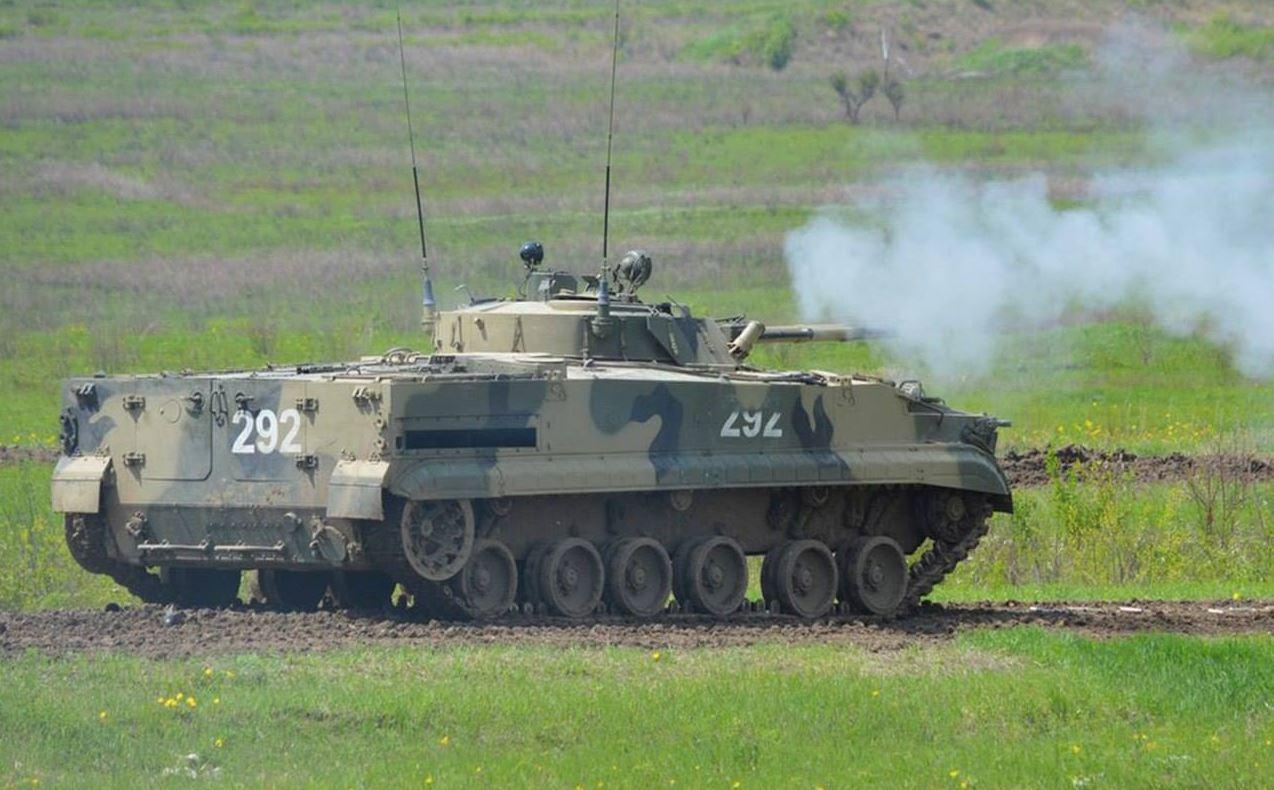tank: (49, 239, 1019, 625)
